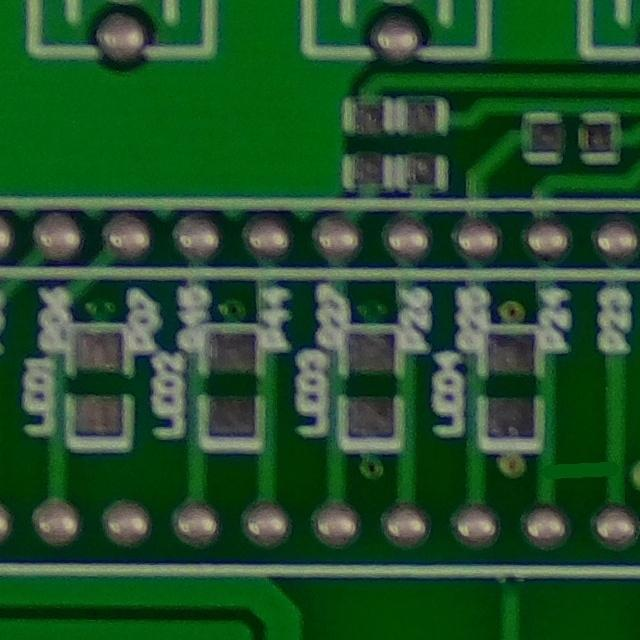short: (525, 426, 640, 512)
